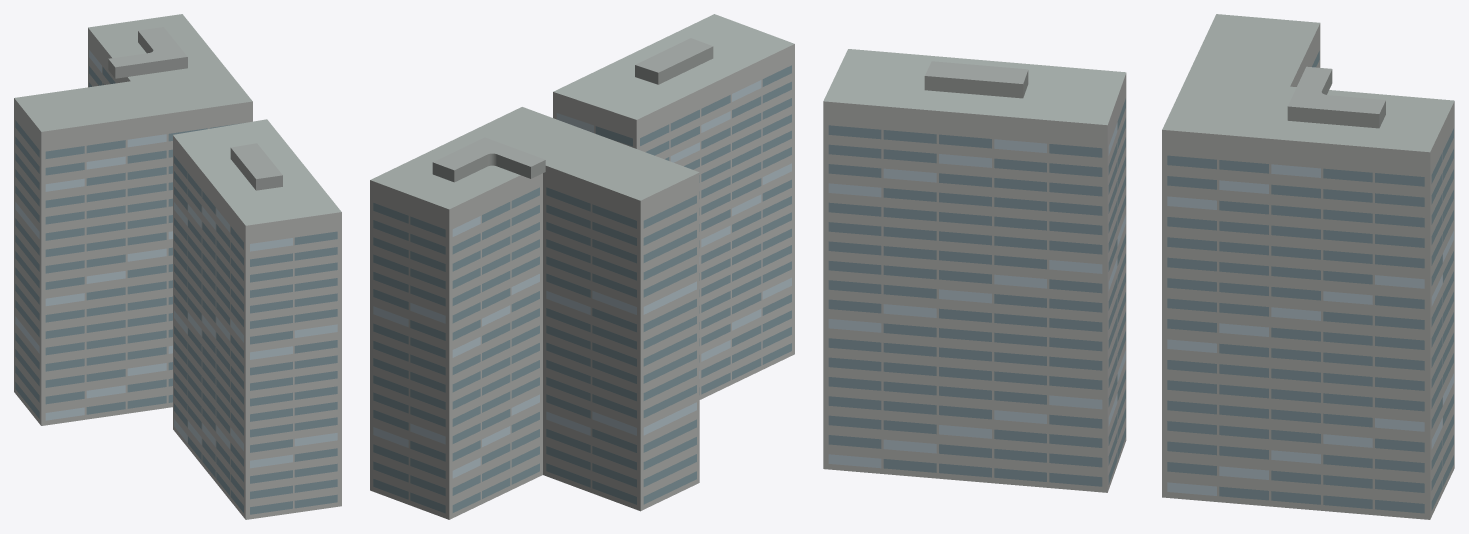
The model's file is apt-a10023489.glb.
3 renders of one model, left to right at view 1: azimuth 30°, elevation 25°; view 2: azimuth 150°, elevation 25°; view 3: azimuth 270°, elevation 25°, orthographic. The views are drawn at different scales.
Parts seen in each view (by area): view 1: apt-a10023489; view 2: apt-a10023489; view 3: apt-a10023489.
Part boxes in pixels (<box>): apt-a10023489: <box>14,14,341,519</box>; apt-a10023489: <box>370,14,794,519</box>; apt-a10023489: <box>823,14,1454,519</box>.
Size of the model in its own units: 49.69 by 64 by 95.88.
